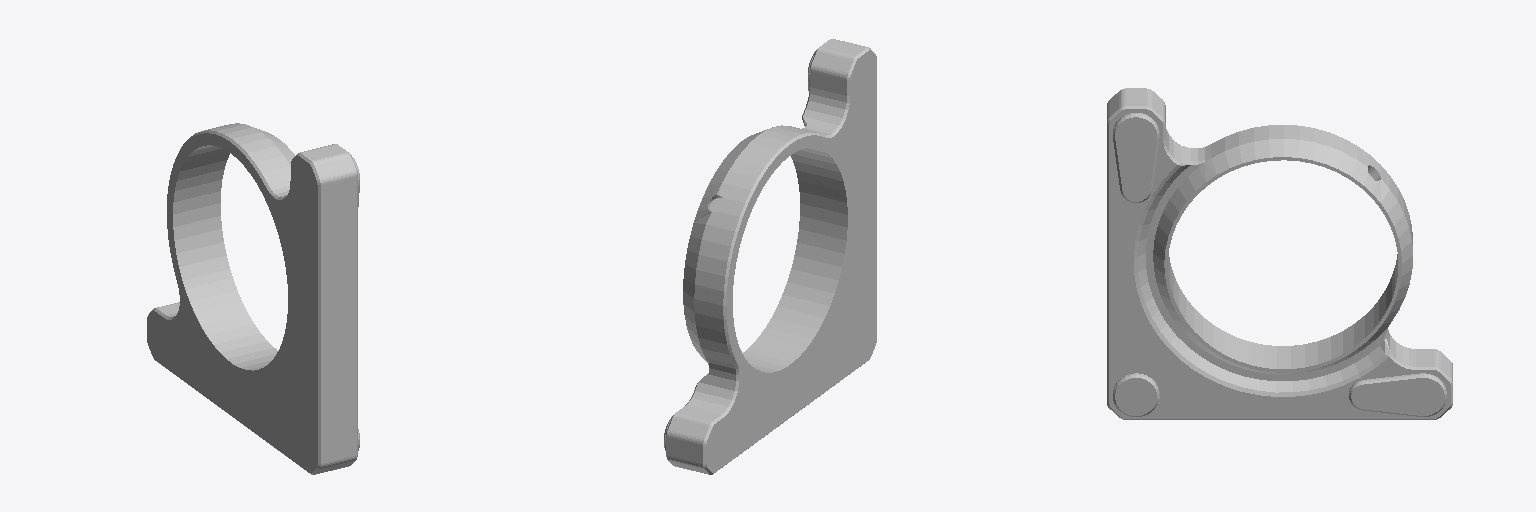
The model's file is KS1RS_Lens_Base.obj.
3 renders of one model, left to right at view 1: azimuth 30°, elevation 25°; view 2: azimuth 150°, elevation 25°; view 3: azimuth 270°, elevation 25°, orthographic.
Visible parts, largest first — view 1: polySurface1268; view 2: polySurface1268; view 3: polySurface1268.
Part boxes in pixels (left/top/right/bottom): polySurface1268: left=147, top=123, right=359, bottom=474; polySurface1268: left=664, top=39, right=876, bottom=474; polySurface1268: left=1107, top=88, right=1452, bottom=419.
Bounding box in the file's own units: 11.94 × 74.93 × 74.93.